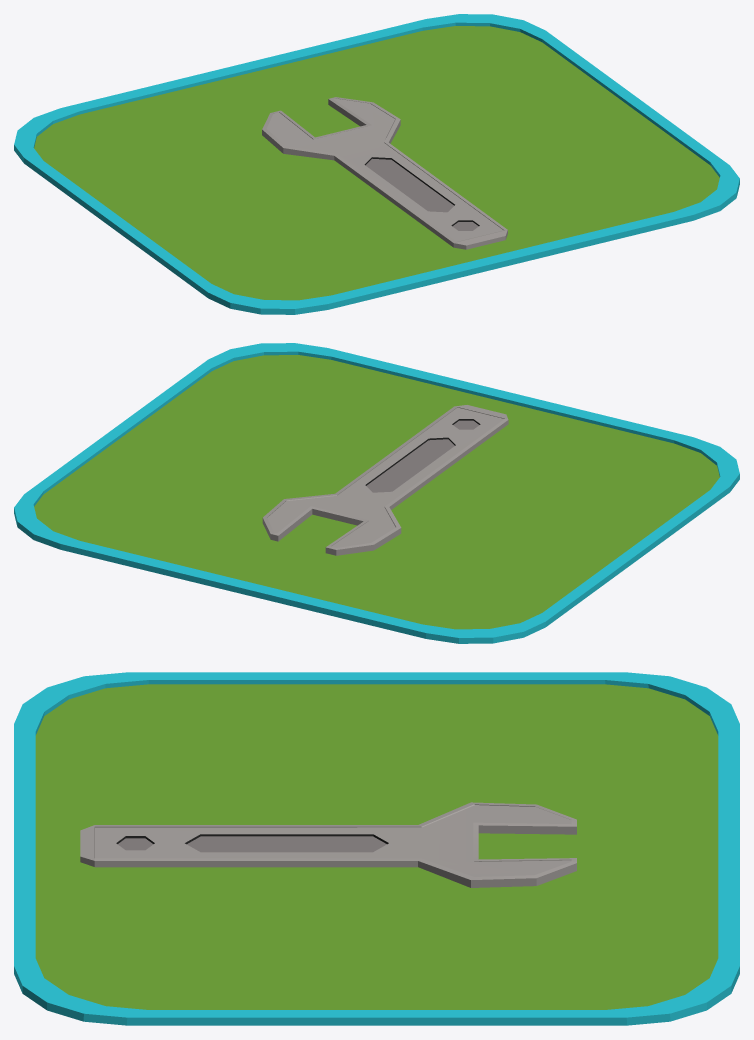
File: repair pad solution.fbx
3 views of the same model, one above another, from view 1: azimuth 30°, elevation 25°; view 2: azimuth 150°, elevation 25°; view 3: azimuth 270°, elevation 25° (orthographic). The views are drawn at different scales.
Parts seen in each view (by area): view 1: ground arrow.001, wrench; view 2: ground arrow.001, wrench; view 3: ground arrow.001, wrench.
Part boxes in pixels (x1,y1,x2,y2): ground arrow.001: (14,14,739,314); wrench: (262,97,507,249); ground arrow.001: (14,343,739,643); wrench: (262,405,508,555); ground arrow.001: (14,672,739,1025); wrench: (80,802,576,887).
Bounding box in the file's own units: 1057 × 21.5 × 939.
